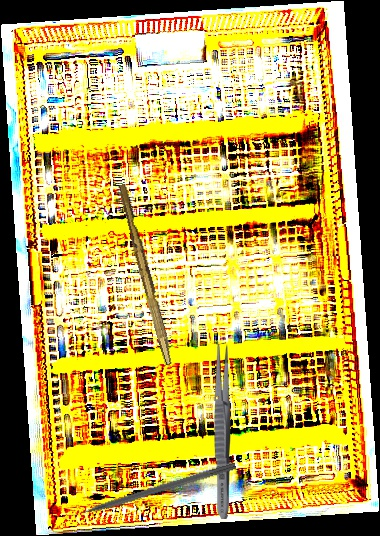Dressing Forceps: (211, 339, 233, 520)
Pusher: (61, 459, 237, 523)
Scalpel Handle: (114, 183, 178, 366)
